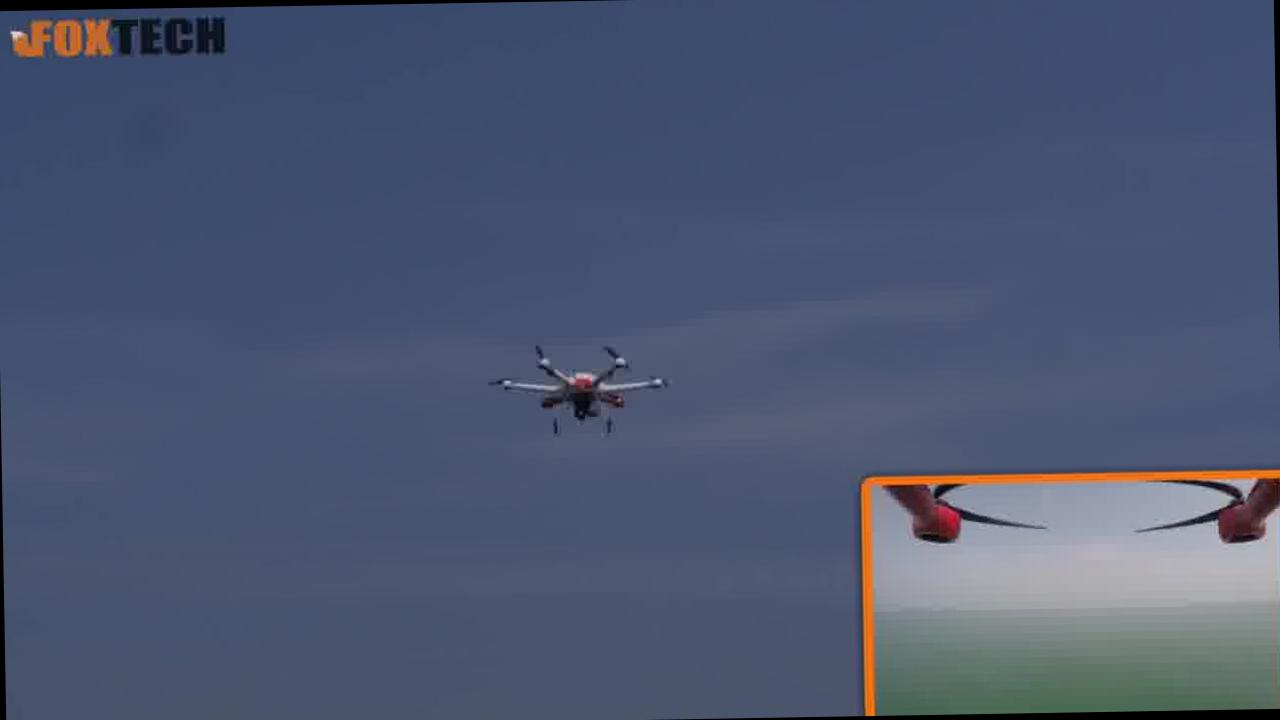drone: (486, 325, 678, 456)
